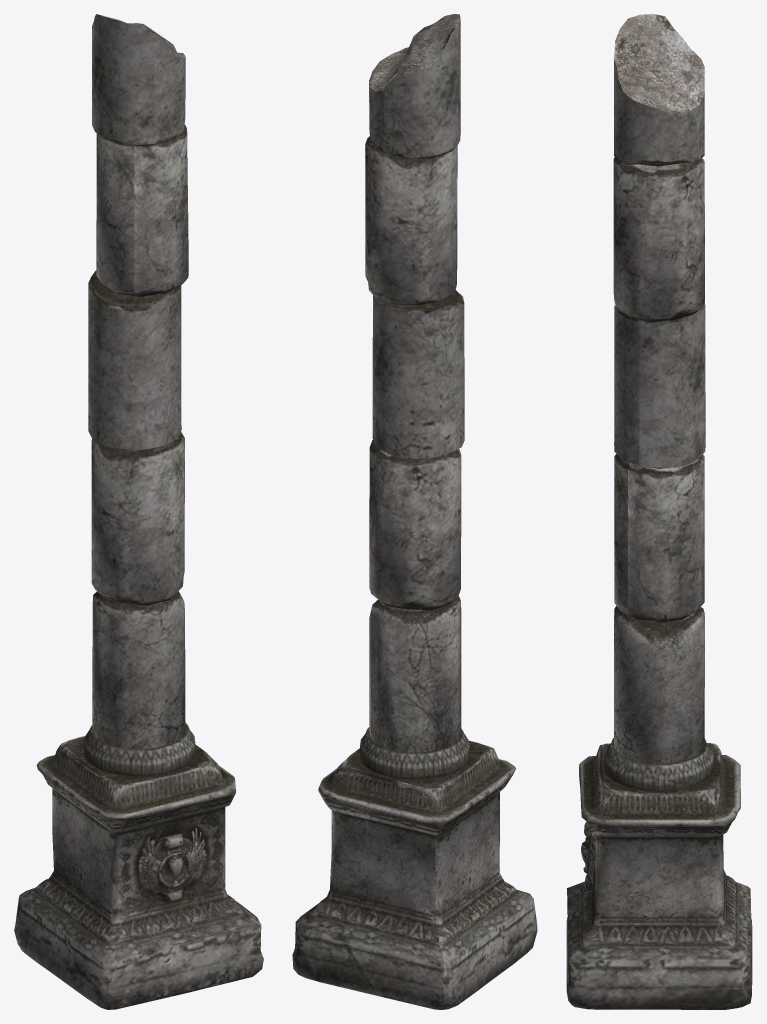
Rendered from eso_ss1_column3-transformed.glb.
3 renders of one model, left to right at view 1: azimuth 30°, elevation 25°; view 2: azimuth 150°, elevation 25°; view 3: azimuth 270°, elevation 25°, orthographic.
Visible parts, largest first — view 1: default; view 2: default; view 3: default.
Boxes of the visible parts, box(x1,y1,x2,y2) form: default: box(14, 14, 263, 1009); default: box(292, 14, 537, 1009); default: box(566, 14, 752, 1009).
Bounding box in the file's own units: 3.09 × 17.12 × 3.07.
2 materials, 2 textured.
